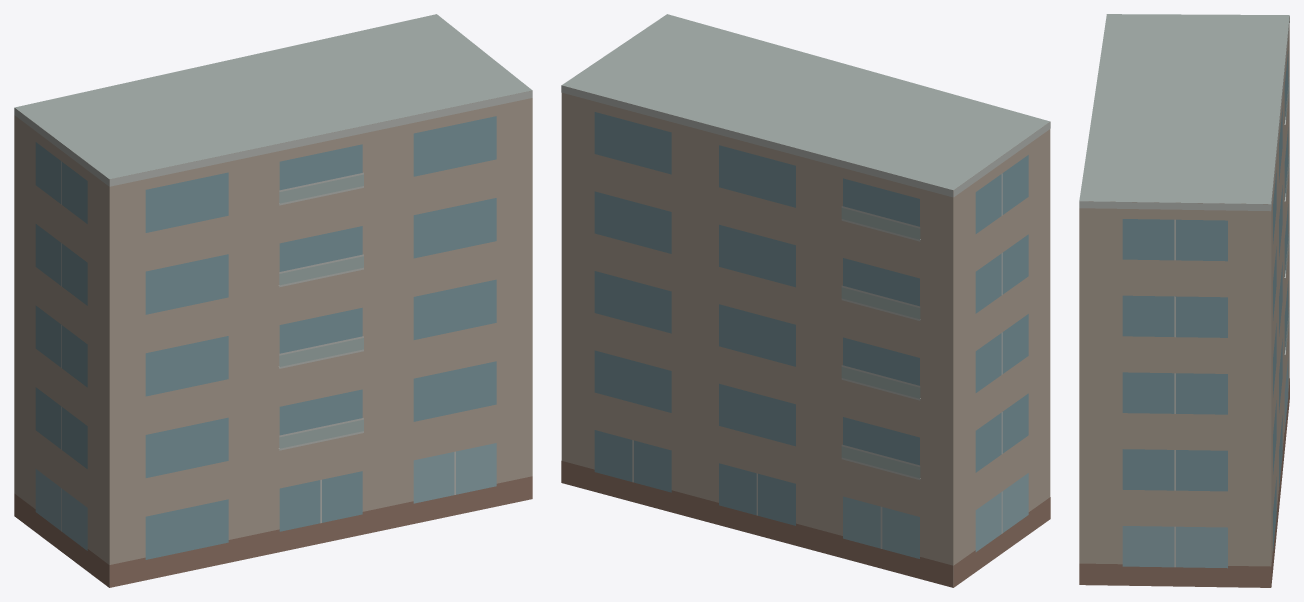
File: survey-upis-32882763.glb
The picture shows the model from 3 angles, left to right: view 1: azimuth 30°, elevation 25°; view 2: azimuth 150°, elevation 25°; view 3: azimuth 270°, elevation 25°; orthographic projection. The views are drawn at different scales.
Parts seen in each view (by area): view 1: survey-upis-32882763.tmp; view 2: survey-upis-32882763.tmp; view 3: survey-upis-32882763.tmp.
Boxes of the visible parts, box(x1,y1,x2,y2) form: survey-upis-32882763.tmp: box(14, 14, 532, 587); survey-upis-32882763.tmp: box(561, 14, 1050, 587); survey-upis-32882763.tmp: box(1079, 14, 1289, 587).
Size of the model in its own units: 14.2 by 13.35 by 6.65.
